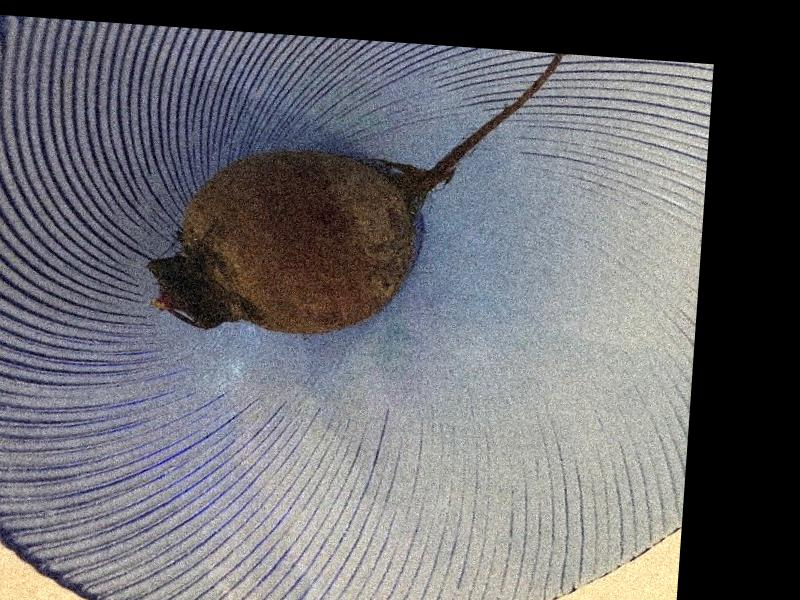Beet: (145, 25, 561, 350)
